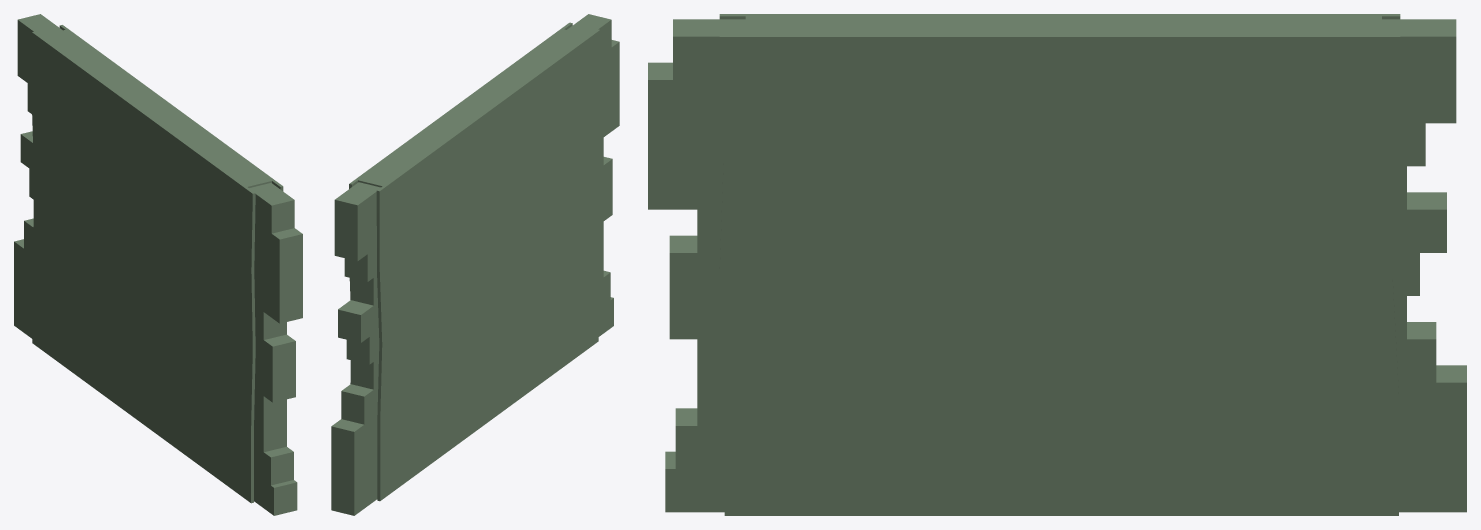
Rendered from walls6_LP.fbx.
3 views of the same model, side by side, from view 1: azimuth 30°, elevation 25°; view 2: azimuth 150°, elevation 25°; view 3: azimuth 270°, elevation 25° (orthographic). The views are drawn at different scales.
Parts seen in each view (by area): view 1: wall14_LP, wall15_LP, wall13_LP; view 2: wall14_LP, wall13_LP, wall15_LP; view 3: wall14_LP, wall15_LP, wall13_LP.
Boxes of the visible parts, box(x1,y1,x2,y2) form: wall14_LP: box(32, 25, 283, 503); wall15_LP: box(249, 183, 302, 515); wall13_LP: box(14, 14, 62, 338); wall14_LP: box(349, 22, 600, 501); wall13_LP: box(331, 182, 380, 515); wall15_LP: box(567, 14, 619, 336); wall14_LP: box(719, 14, 1400, 515); wall15_LP: box(648, 19, 745, 512); wall13_LP: box(1382, 19, 1466, 512).
Size of the model in its own units: 43.28 by 420 by 651.
